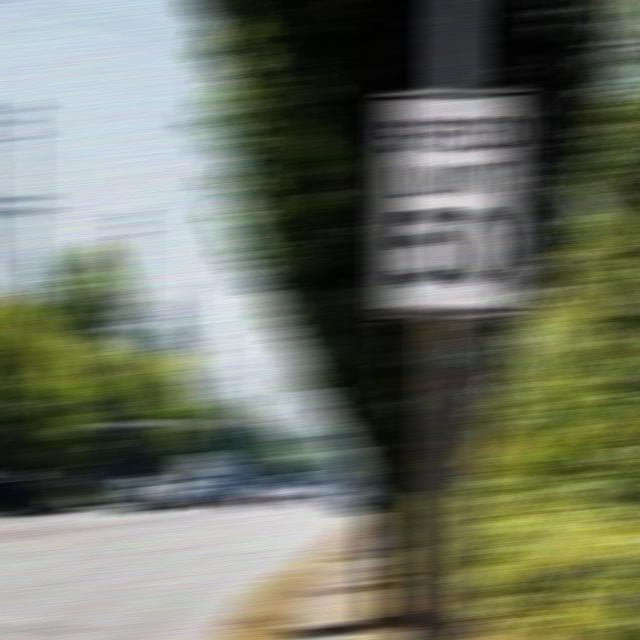speedLimit50: (381, 87, 526, 323)
